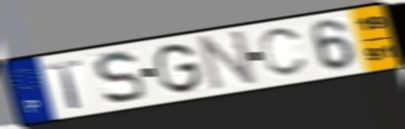6: (309, 16, 359, 73)
C: (258, 25, 310, 79)
G: (154, 41, 205, 96)
N: (198, 28, 260, 93)
S: (91, 50, 148, 107)
T: (44, 58, 86, 112)
